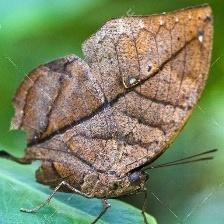butterfly: (11, 5, 213, 198)
